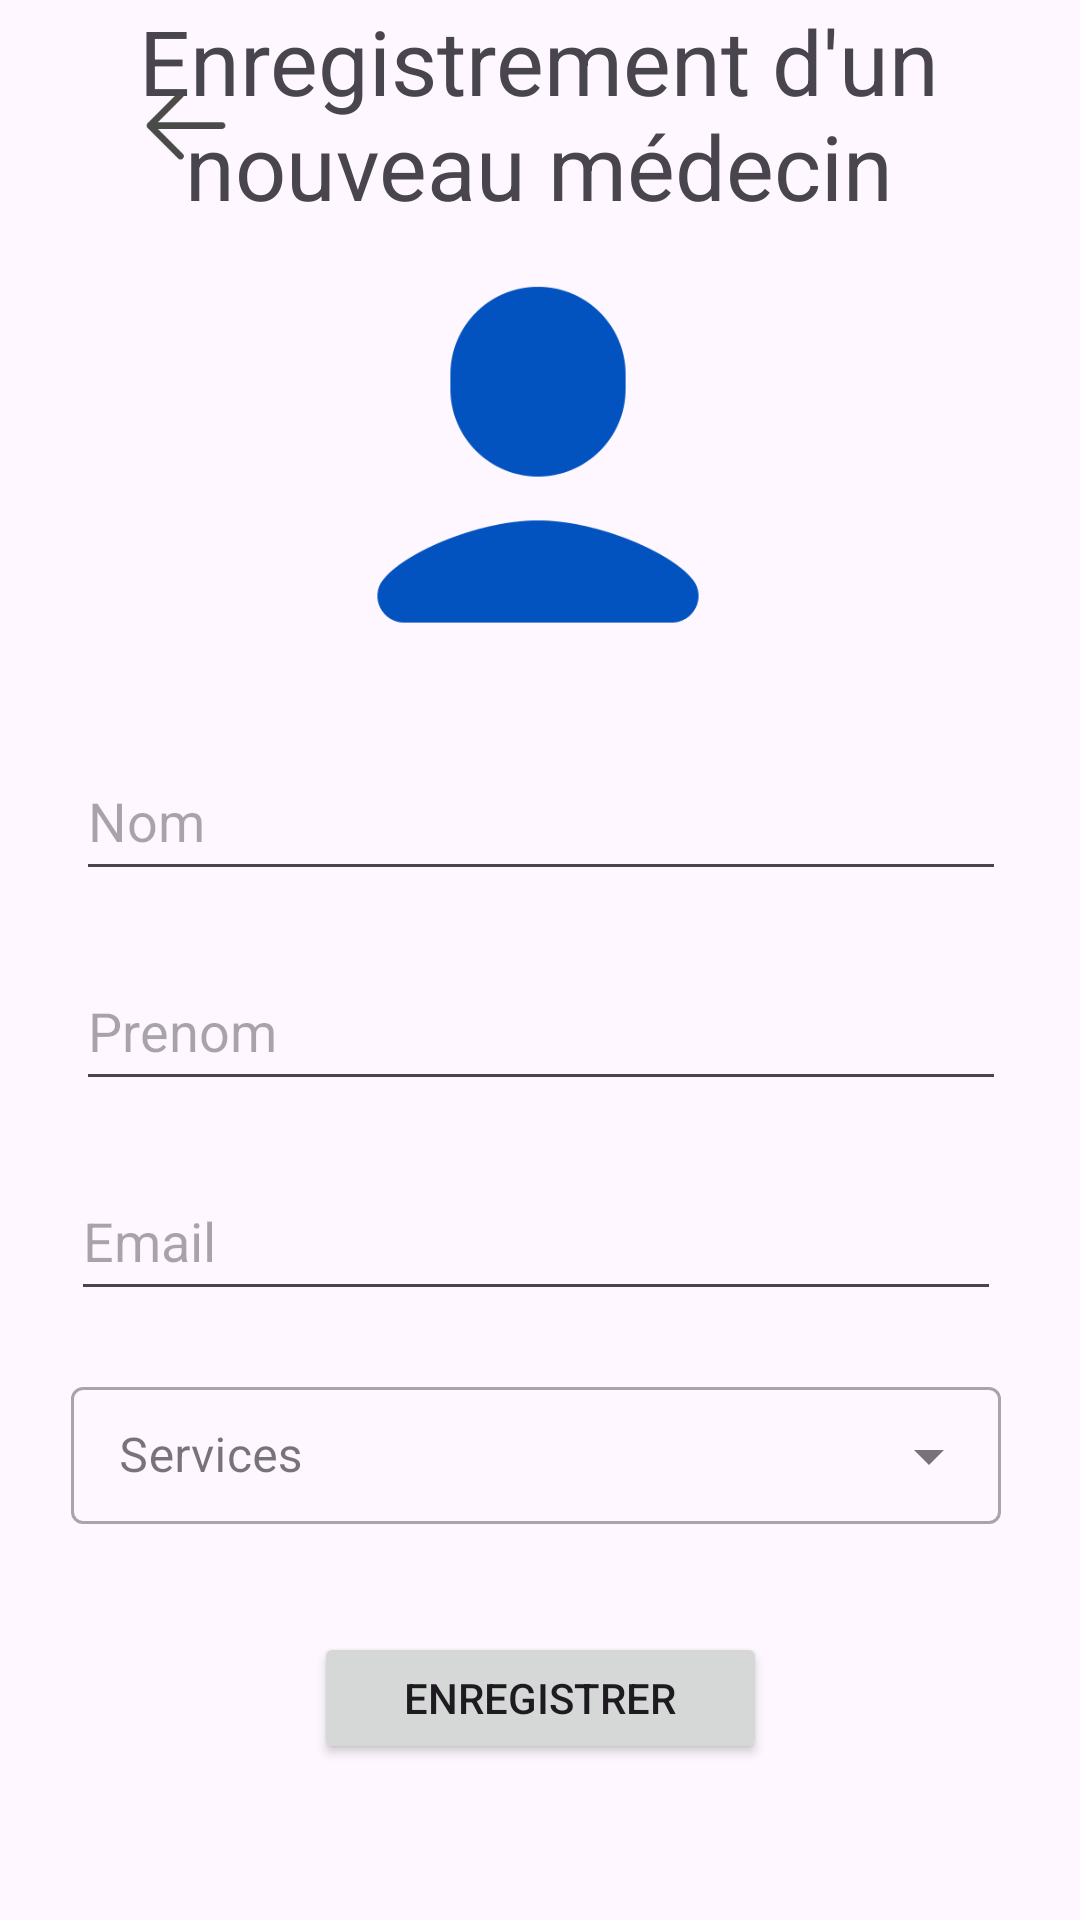

Where to tap for icons on this 1080w x 1920h app screen, as point (x, y):
user: point (538, 454)
